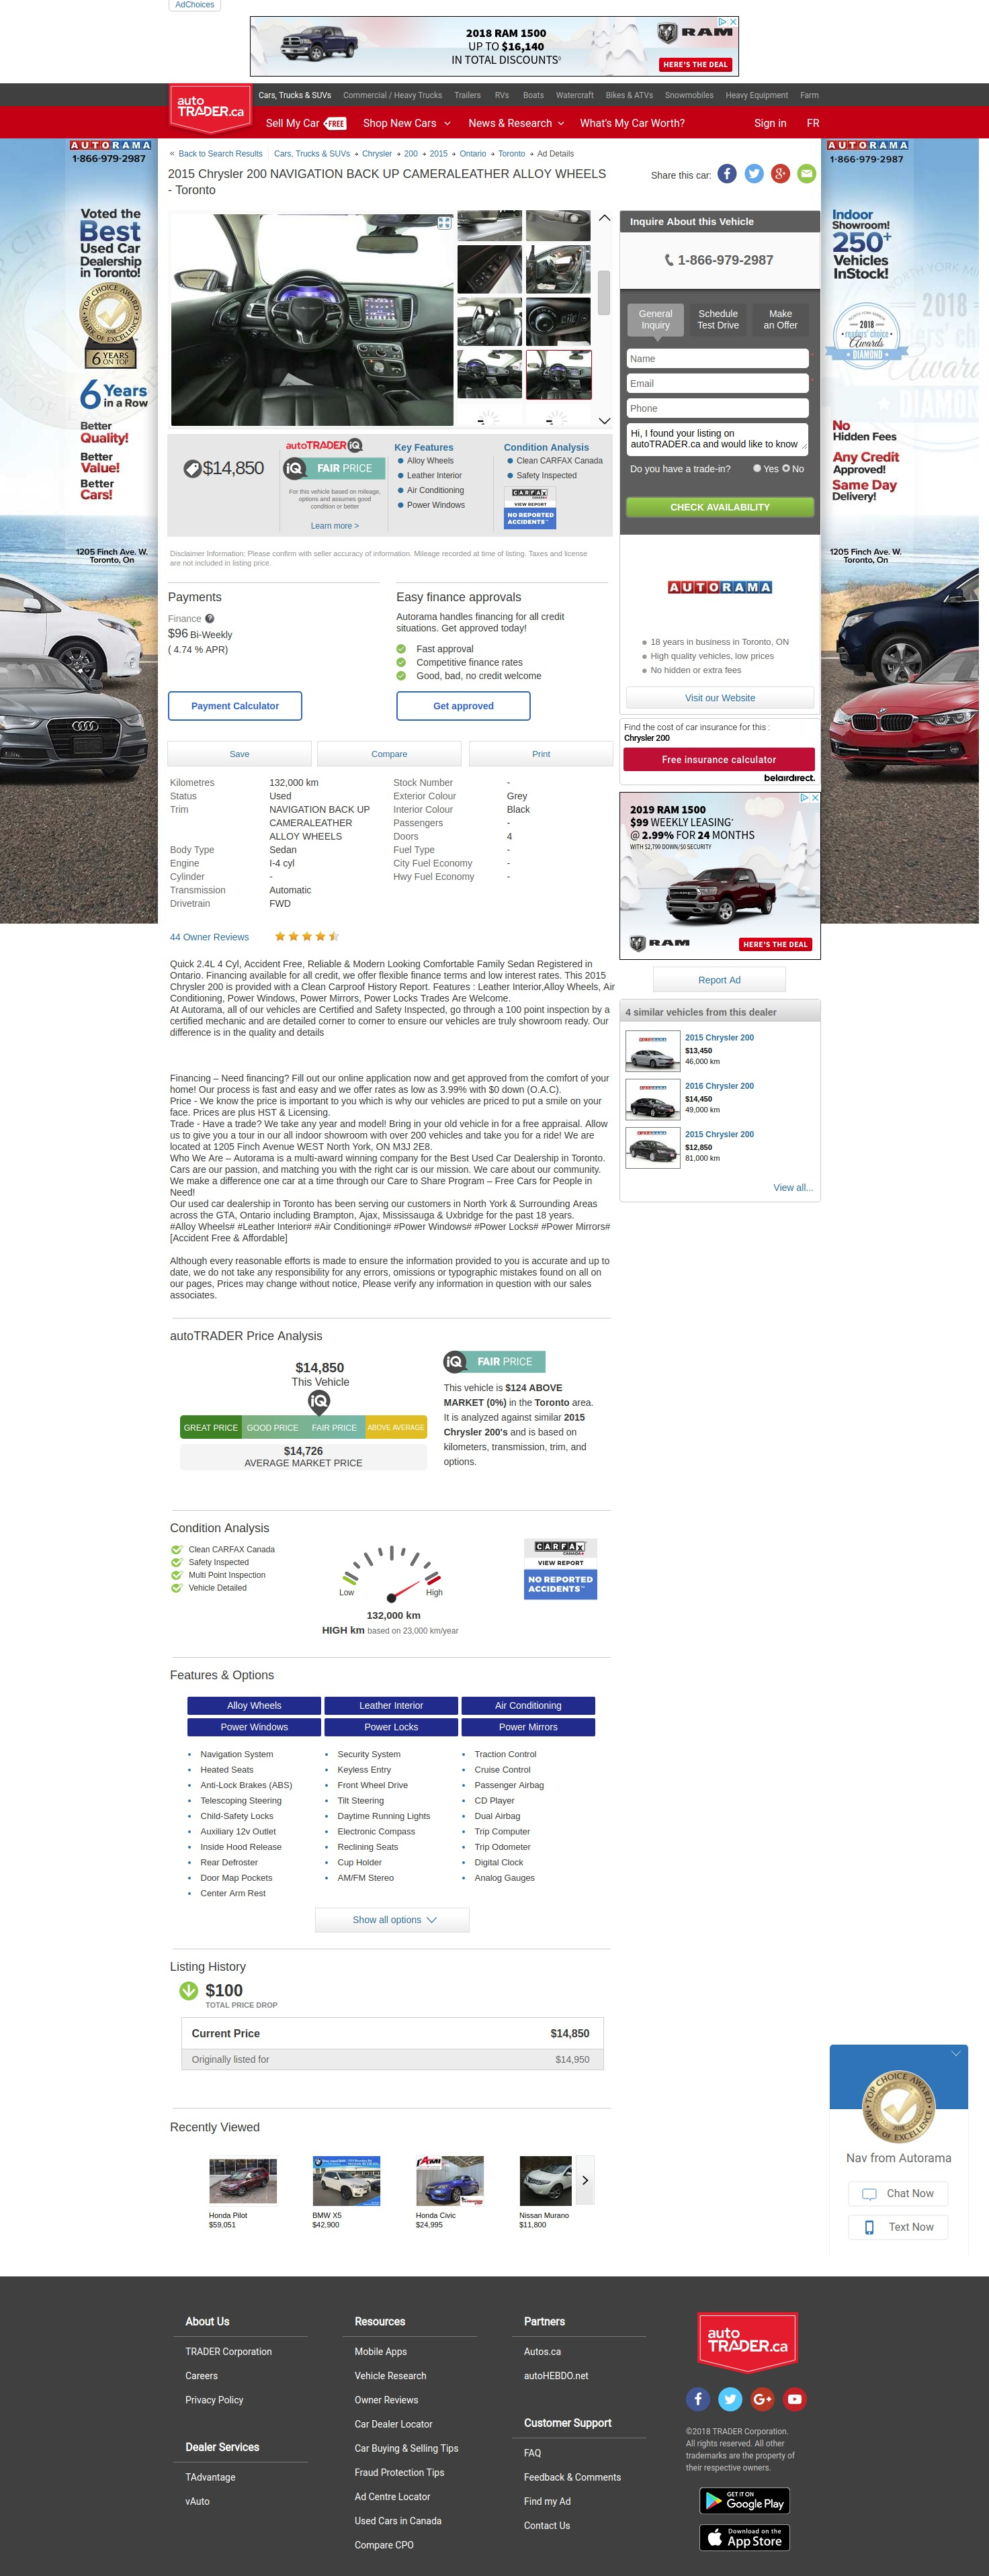car: (598, 417, 613, 426)
